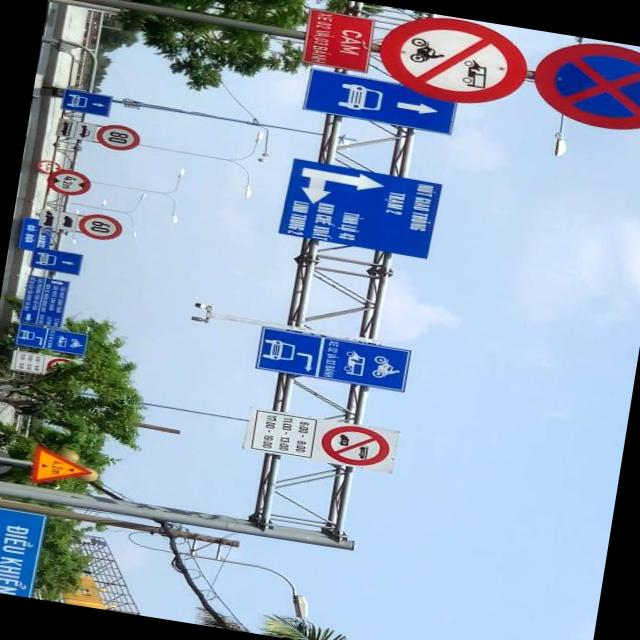P-104: (376, 9, 534, 112)
P-130: (529, 35, 640, 139)
